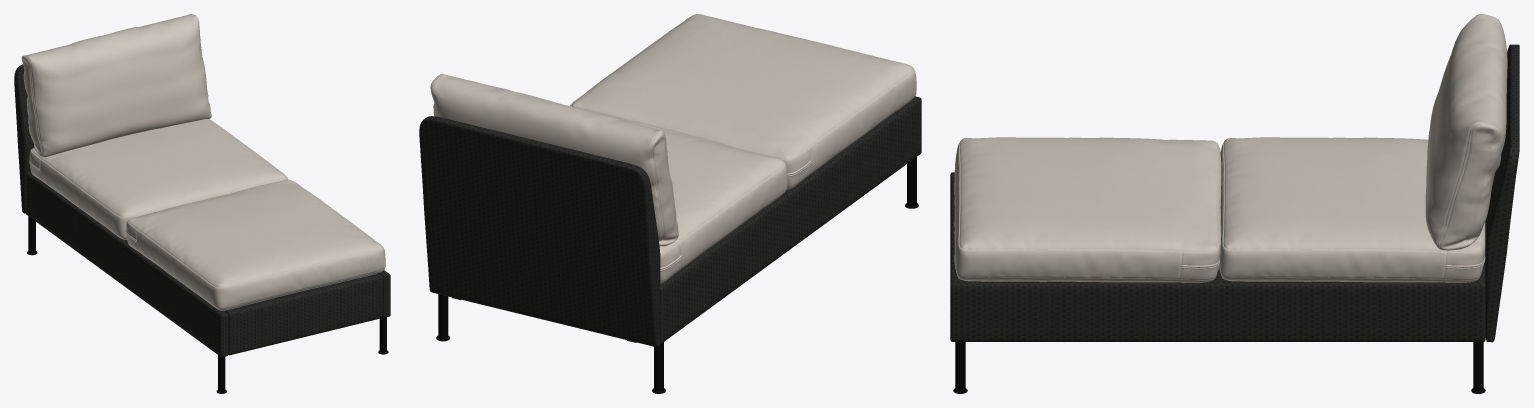
The model's file is vittskar_szezlong_moduowy_49591256.glb.
3 views of the same model, side by side, from view 1: azimuth 30°, elevation 25°; view 2: azimuth 150°, elevation 25°; view 3: azimuth 270°, elevation 25° (orthographic). The views are drawn at different scales.
Parts seen in each view (by area): view 1: vittskar_szezlong_moduowy_49591256; view 2: vittskar_szezlong_moduowy_49591256; view 3: vittskar_szezlong_moduowy_49591256.
Boxes of the visible parts, x1,y1,x2,y2 form: vittskar_szezlong_moduowy_49591256: (14, 14, 390, 393); vittskar_szezlong_moduowy_49591256: (419, 14, 921, 393); vittskar_szezlong_moduowy_49591256: (950, 14, 1519, 393).
Bounding box in the file's own units: 0.8088 × 0.8839 × 1.69.
Materials: 5 (3 with a texture image).
